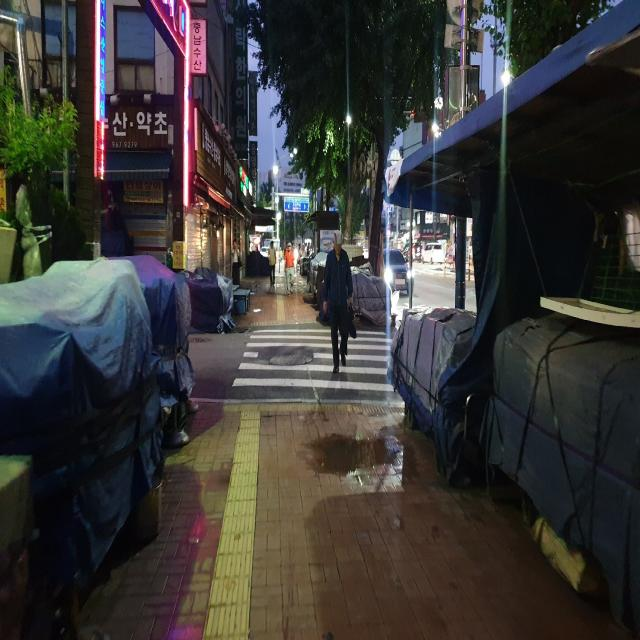횡단보도: (231, 327, 398, 393)
